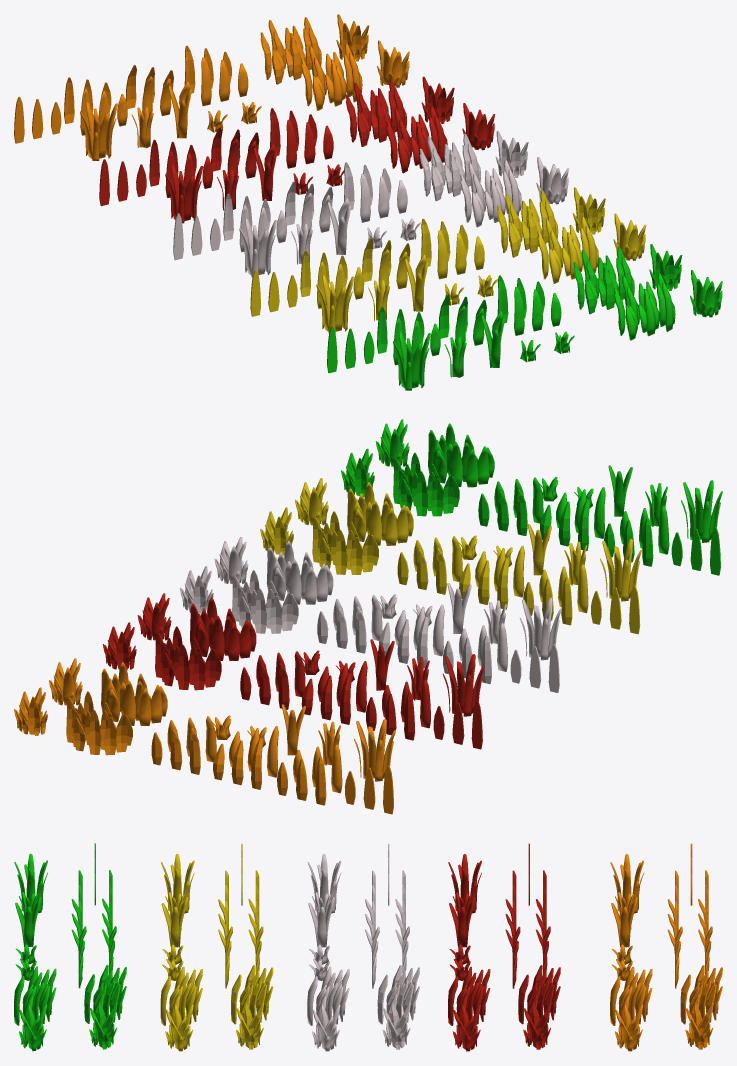
File: simple_low_poly_grass.fbx
3 views of the same model, one above another, from view 1: azimuth 30°, elevation 25°; view 2: azimuth 150°, elevation 25°; view 3: azimuth 270°, elevation 25° (orthographic). The views are drawn at different scales.
Parts seen in each view (by area): view 1: low_poly_grass_1.021, low_poly_grass_1.117, low_poly_grass_1.039, low_poly_grass_1.065, low_poly_grass_1.128, low_poly_grass_1.023, low_poly_grass_1.102, low_poly_grass_1.050, low_poly_grass_1.076, low_poly_grass_1.091, low_poly_grass_1, low_poly_grass_1.104 (+18 smaller); view 2: low_poly_grass_1.102, low_poly_grass_1.128, low_poly_grass_1.023, low_poly_grass_1.050, low_poly_grass_1.076, low_poly_grass_1.117, low_poly_grass_1.039, low_poly_grass_1.021, low_poly_grass_1.065, low_poly_grass_1.091, low_poly_grass_1.026, low_poly_grass_1.104 (+18 smaller); view 3: low_poly_grass_1.039, low_poly_grass_1.128, low_poly_grass_1.076, low_poly_grass_1.023, low_poly_grass_1.102, low_poly_grass_1.065, low_poly_grass_1.021, low_poly_grass_1.117, low_poly_grass_1.050, low_poly_grass_1.091, low_poly_grass_1.049, low_poly_grass_1.101 (+18 smaller).
Boxes of the visible parts, box(x1,y1,x2,y2) form: low_poly_grass_1.021: box(614, 273, 675, 340); low_poly_grass_1.117: box(301, 43, 362, 110); low_poly_grass_1.039: box(537, 216, 598, 283); low_poly_grass_1.065: box(460, 160, 521, 227); low_poly_grass_1.128: box(260, 17, 321, 84); low_poly_grass_1.023: box(573, 246, 634, 314); low_poly_grass_1.102: box(346, 79, 406, 146); low_poly_grass_1.050: box(497, 190, 558, 257); low_poly_grass_1.076: box(419, 133, 480, 201); low_poly_grass_1.091: box(386, 106, 447, 173); low_poly_grass_1: box(393, 331, 430, 390); low_poly_grass_1.104: box(80, 102, 117, 160); low_poly_grass_1.102: box(155, 626, 221, 690); low_poly_grass_1.128: box(66, 691, 132, 755); low_poly_grass_1.023: box(393, 452, 459, 516); low_poly_grass_1.050: box(312, 511, 378, 574); low_poly_grass_1.076: box(232, 570, 298, 633); low_poly_grass_1.117: box(101, 662, 167, 725); low_poly_grass_1.039: box(347, 482, 413, 545); low_poly_grass_1.021: box(428, 423, 494, 487); low_poly_grass_1.065: box(266, 540, 333, 604); low_poly_grass_1.091: box(190, 597, 256, 660); low_poly_grass_1.026: box(600, 538, 641, 601); low_poly_grass_1.104: box(354, 718, 395, 781); low_poly_grass_1.039: box(160, 966, 202, 1025); low_poly_grass_1.128: box(680, 965, 722, 1024); low_poly_grass_1.076: box(377, 965, 420, 1024); low_poly_grass_1.023: box(84, 964, 126, 1023); low_poly_grass_1.102: box(518, 965, 560, 1024); low_poly_grass_1.065: box(307, 966, 349, 1025); low_poly_grass_1.021: box(14, 966, 56, 1025); low_poly_grass_1.117: box(610, 966, 652, 1025); low_poly_grass_1.050: box(231, 965, 273, 1024); low_poly_grass_1.091: box(448, 966, 490, 1025); low_poly_grass_1.049: box(165, 1004, 193, 1051); low_poly_grass_1.101: box(452, 1004, 480, 1051).
Size of the model in its own units: 11.38 by 0.8209 by 6.41.
